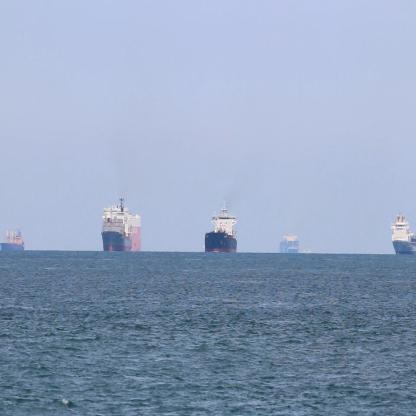Container Ship: (100, 192, 141, 254), (204, 192, 238, 254), (390, 210, 416, 255), (0, 226, 26, 252), (278, 232, 299, 255), (294, 244, 308, 256)
